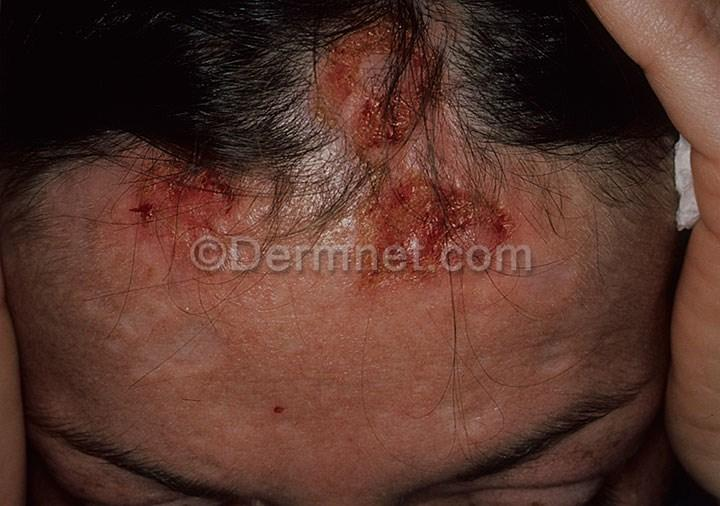Eczema: (333, 175, 542, 294), (291, 13, 457, 156), (129, 162, 255, 260)
